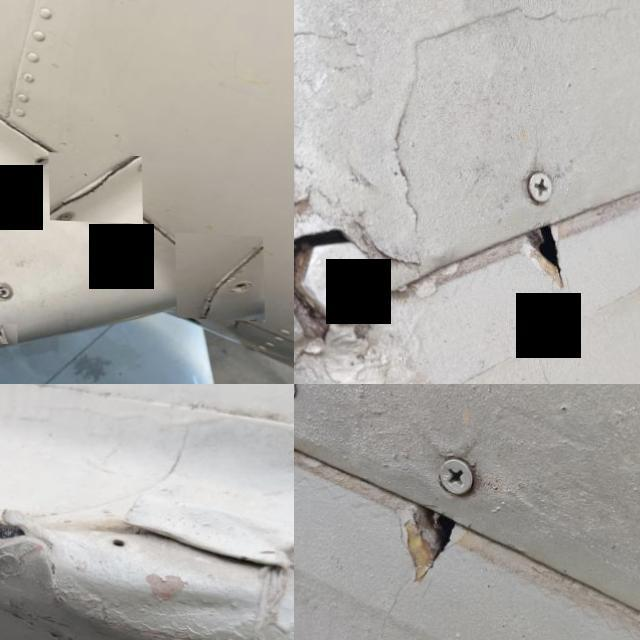Crack: (366, 488, 483, 606), (495, 203, 593, 314), (173, 229, 263, 317), (47, 150, 141, 220), (0, 491, 36, 557), (0, 321, 15, 342)
Missing_Fastener: (188, 275, 208, 288), (32, 153, 49, 167)
